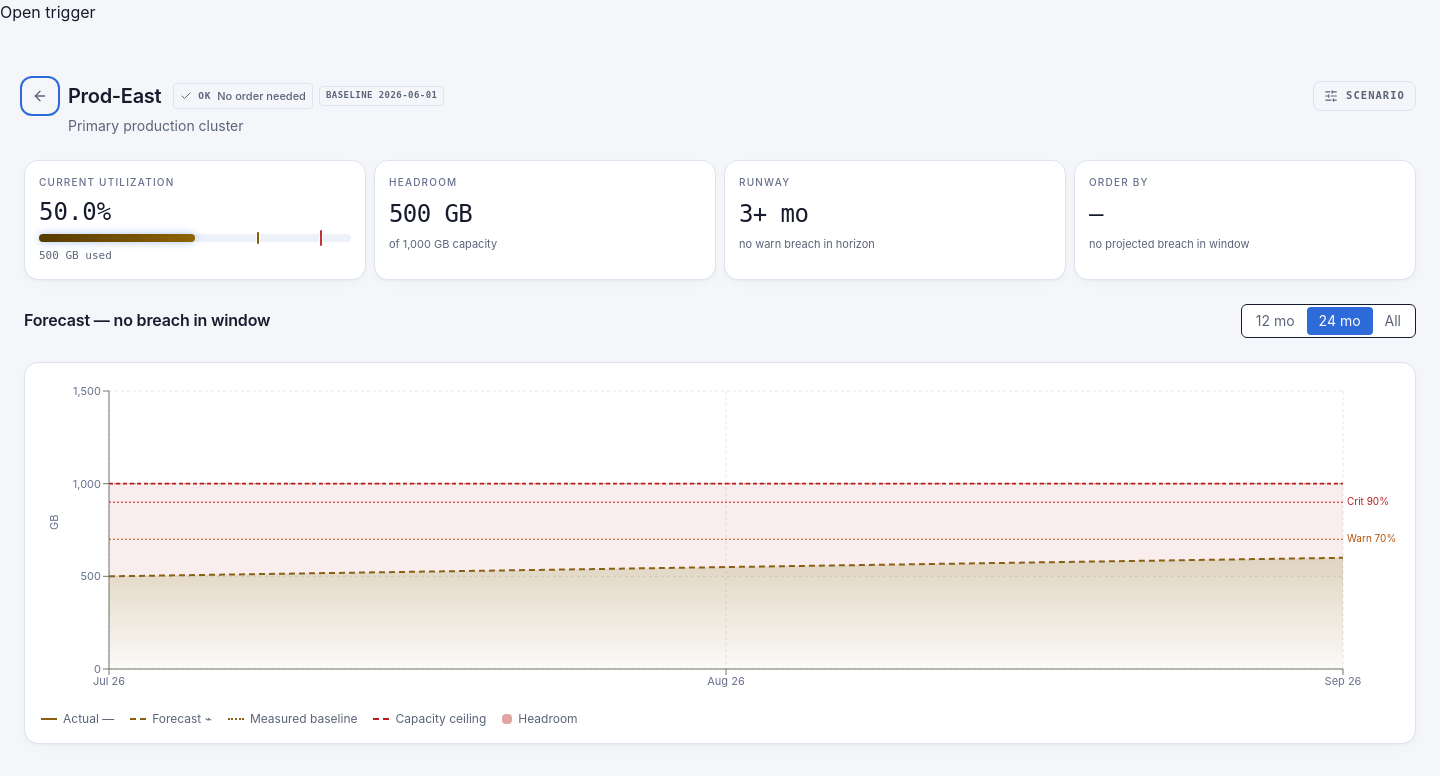
Test: <ClusterPanel> › drops back to the baseline only when the LAST step is removed (#323)
Expected: the element with test id "kpi-strip" is shown, [24, 160, 1416, 280]
Click the button with test id "scenario-button" at (1364, 96), box [1313, 81, 1416, 111]
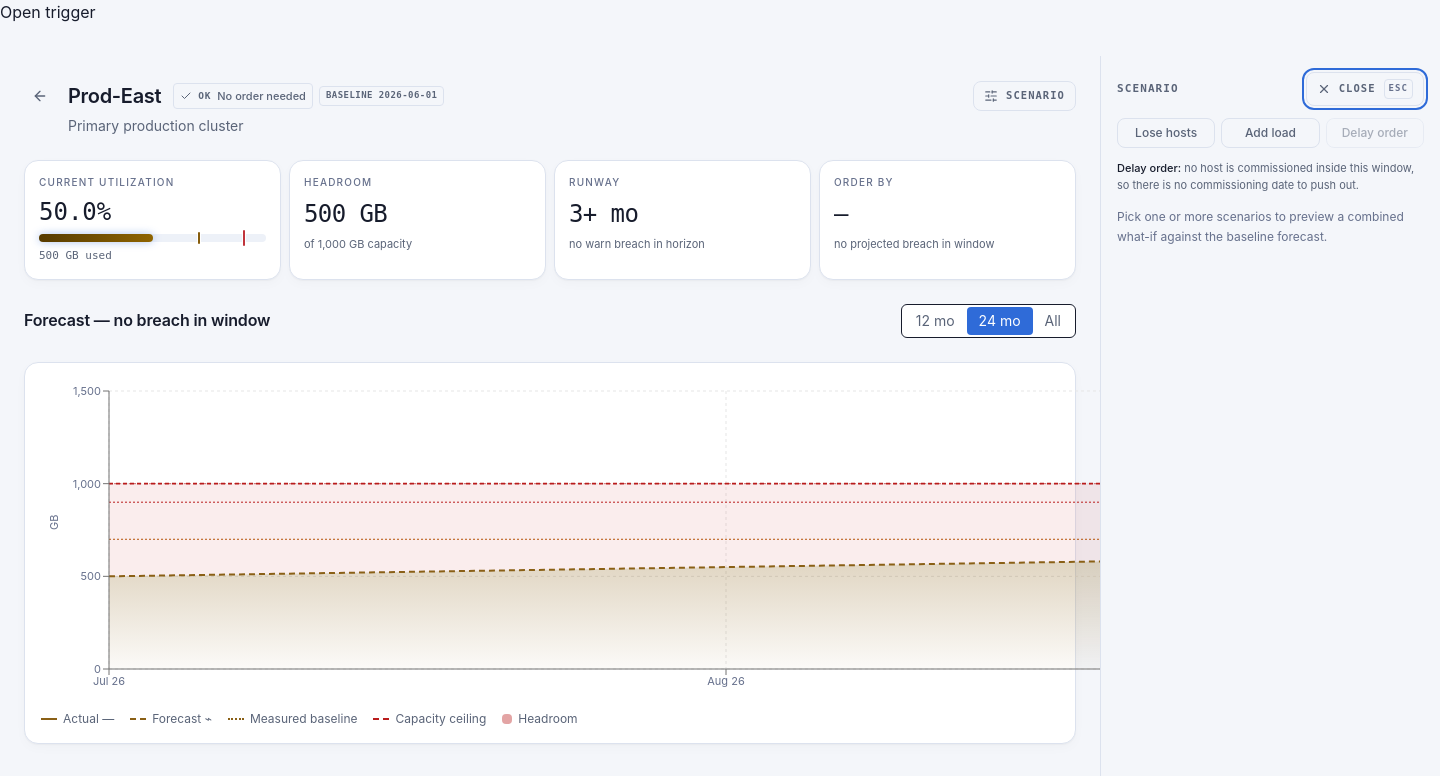
Click the button with test id "scenario-preset-lose_hosts" at (1166, 132), box [1117, 118, 1215, 148]
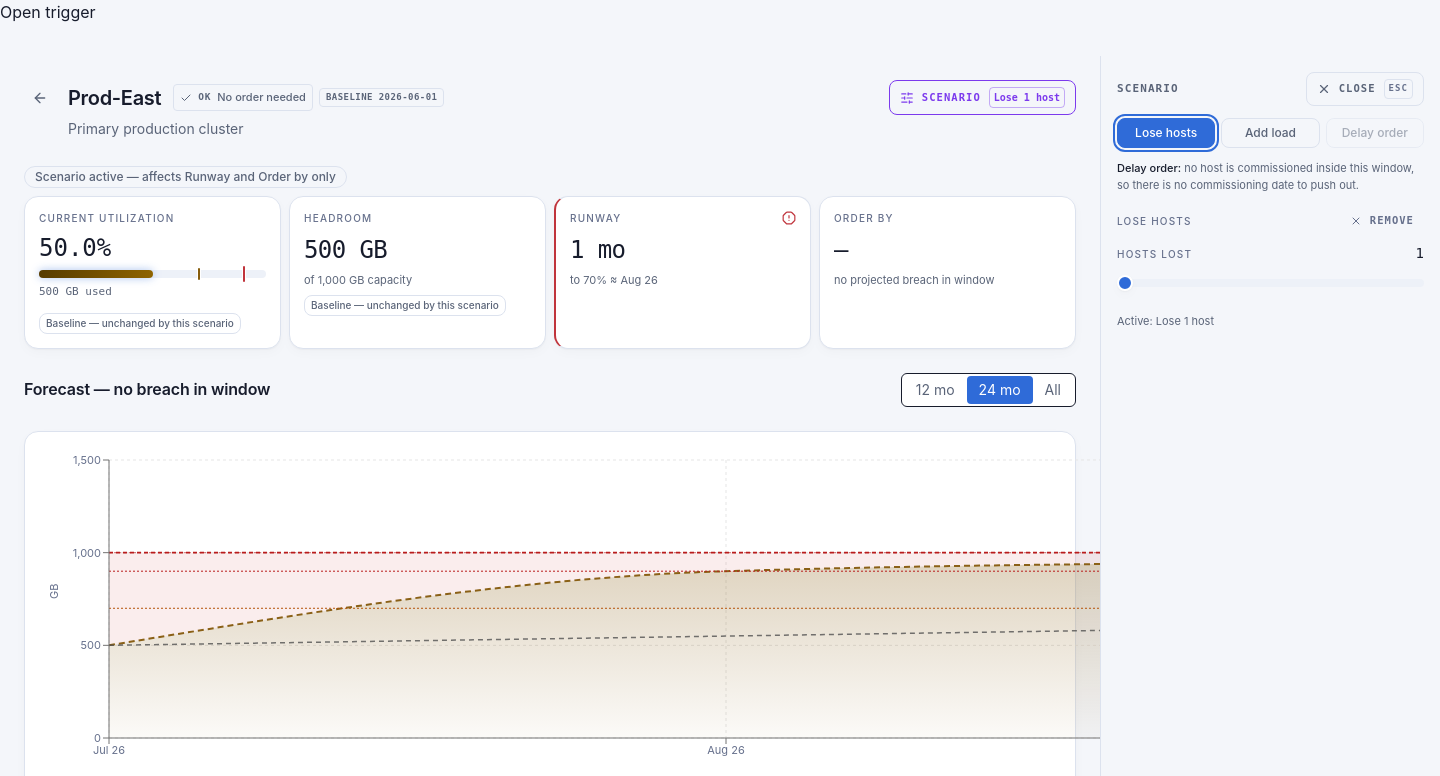
Click the button with test id "scenario-preset-add_vms" at (1270, 132), box [1221, 118, 1320, 148]
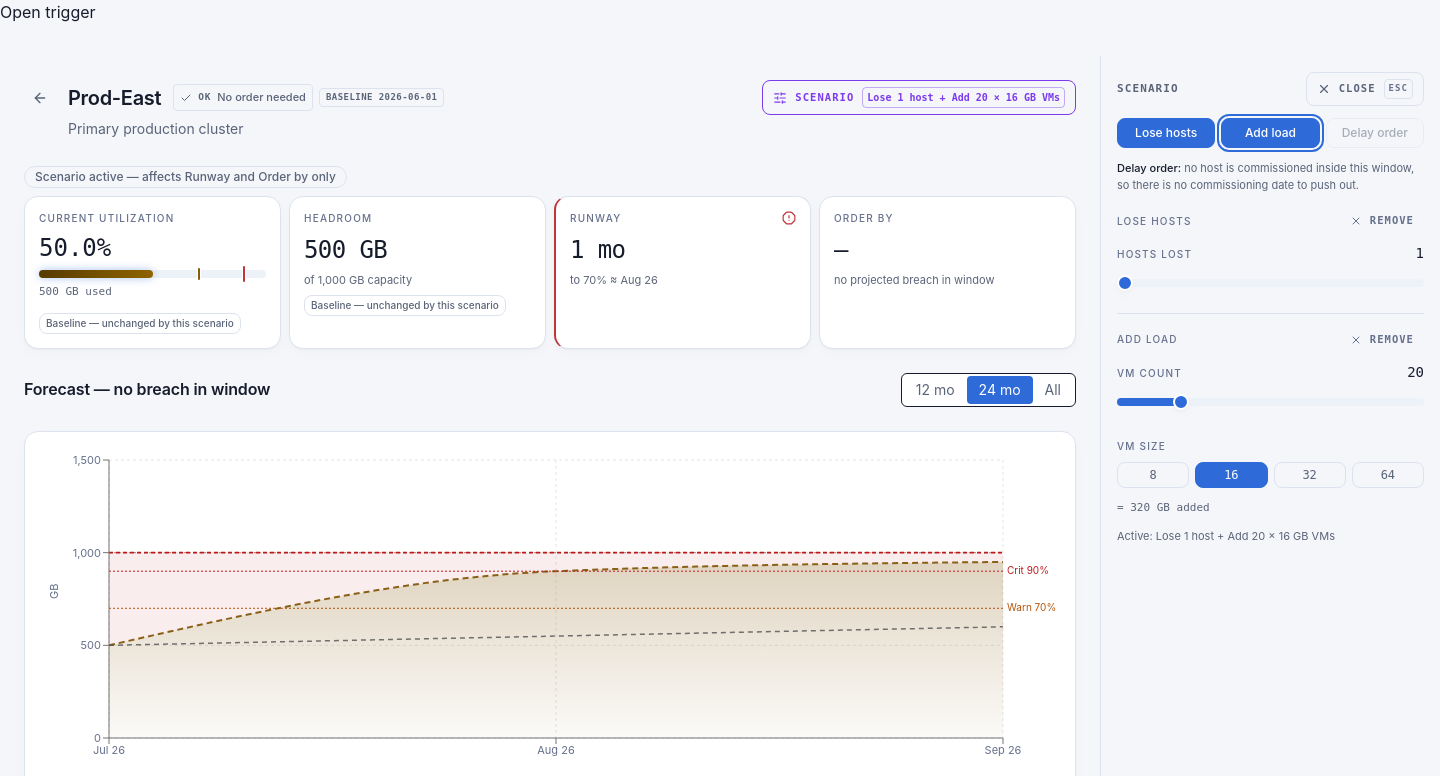
Click the button with test id "scenario-step-remove-lose_hosts" at (1382, 221), box [1340, 207, 1424, 235]
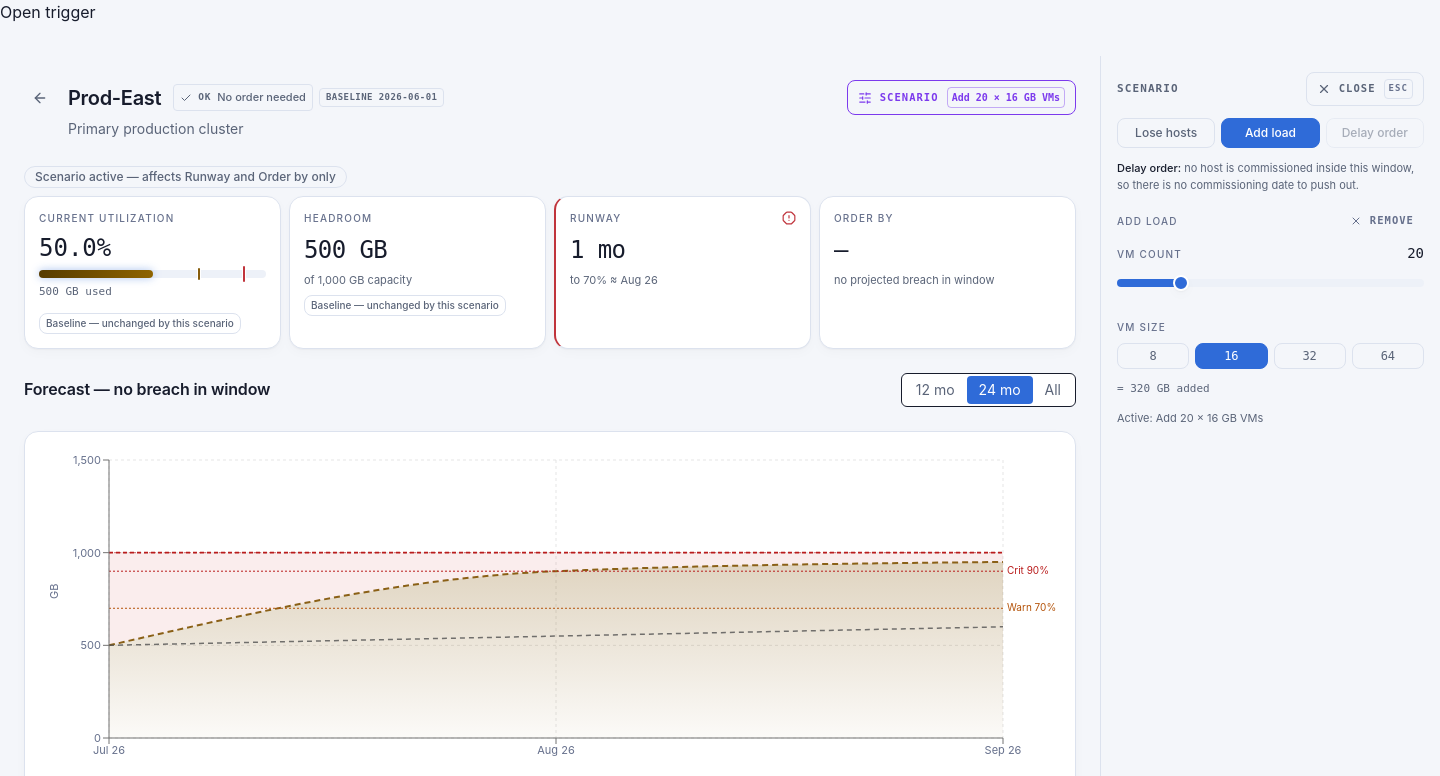
Now the text with test id "scenario-active-indicator" reads "Add 20 × 16 GB VMs", box [952, 92, 1060, 103]
Now the text with test id "scenario-active-indicator" no longer shows "Lose 1 host", box [947, 87, 1065, 108]
Removing the last one does restore the baseline.
Click the button with test id "scenario-step-remove-add_vms" at (1382, 221), box [1340, 207, 1424, 235]
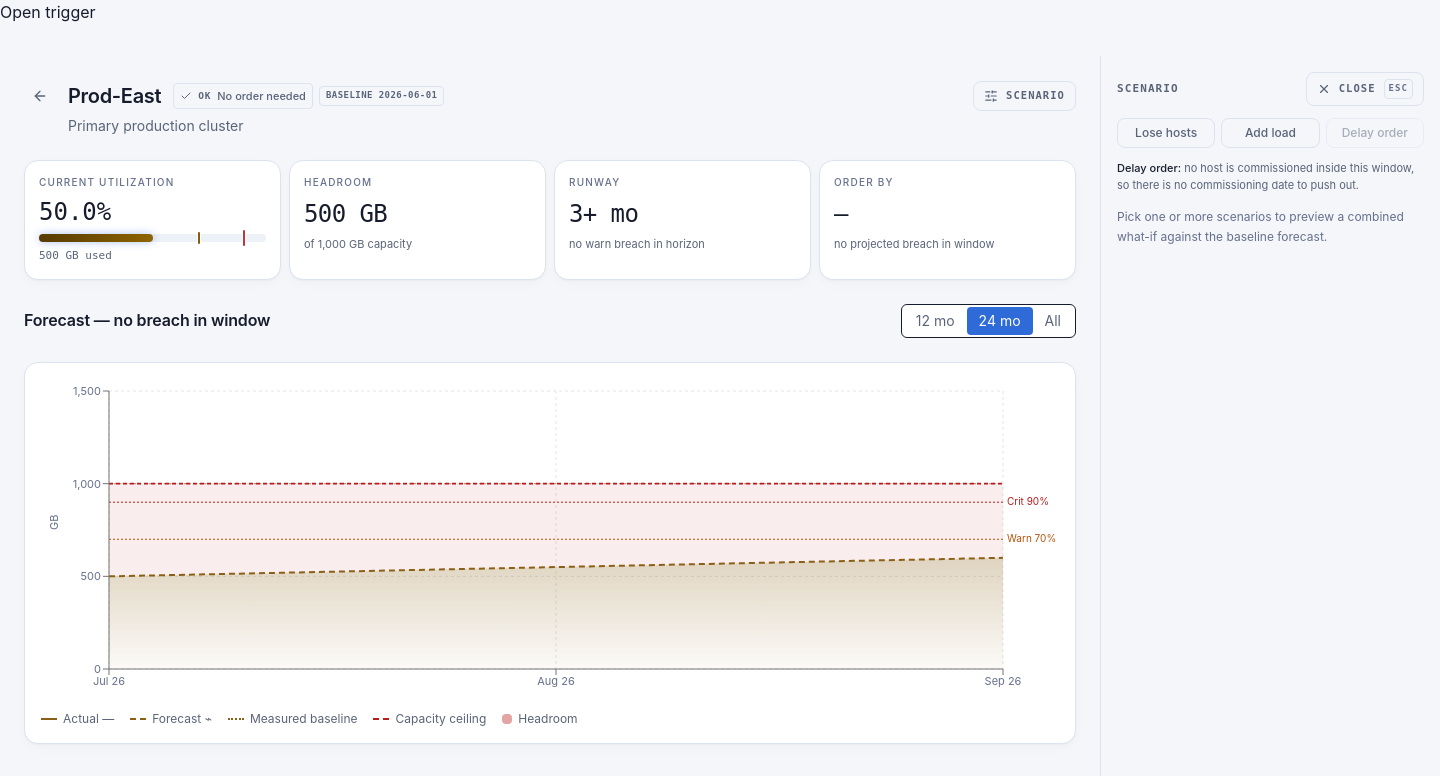
Now the text with test id "scenario-active-indicator" is gone
